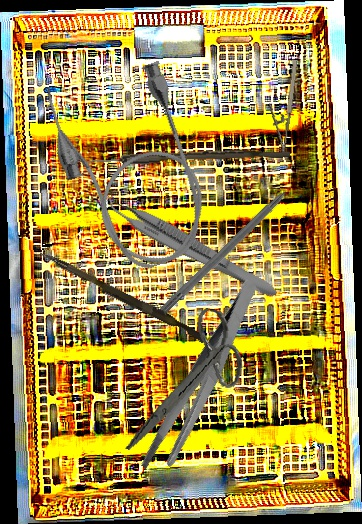Cannula: (34, 48, 225, 285)
Dressing Forceps: (104, 278, 301, 481)
Hook Surgical: (155, 172, 308, 320)
Iris Scissors: (124, 300, 250, 464)
Needle Holder: (261, 56, 301, 159)
Pusher: (35, 249, 209, 344)
Surgical Spoon: (64, 146, 291, 169)
Tissue Forceps: (97, 188, 285, 302)
